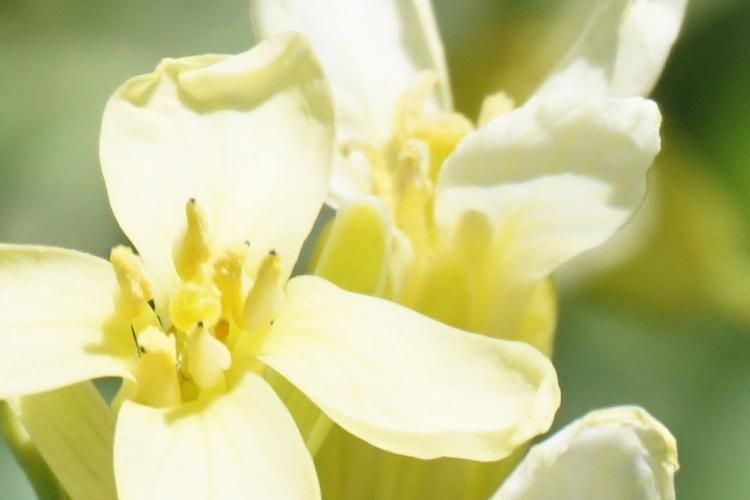white: (46, 72, 496, 485), (269, 16, 665, 296)
